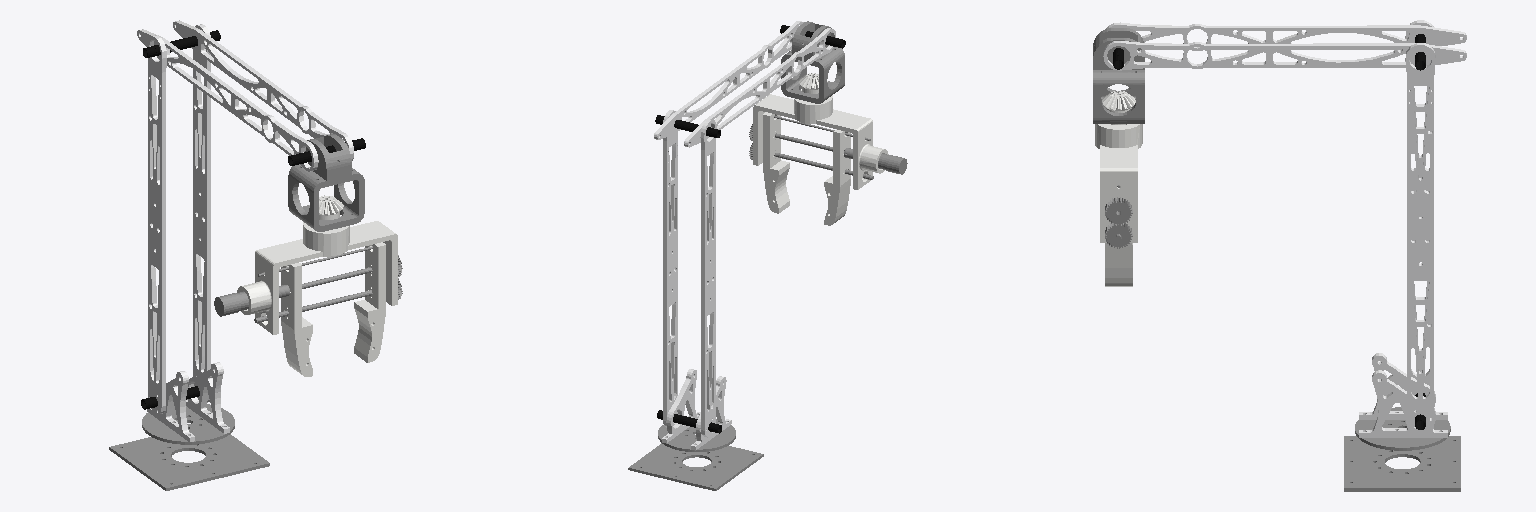
--- Facts derived from the render (not from the file) ---
3 views of the same robot in one strip: view 1: azimuth 30°, elevation 25°; view 2: azimuth 150°, elevation 25°; view 3: azimuth 270°, elevation 25° (orthographic).
Model manipulator_urdf with 24 links and 23 joints (7 revolute, 2 prismatic, 14 fixed), rooted at dummy_root, posed every joint at zero.
Links seen in each view (by area): view 1: link1_2, gripper, link1_1, base_link, link3, link2_2, link2_1, claw1, claw2, base_plate2, link1_1connector, link1_2_connector (+1 smaller); view 2: link1_2, link1_1, gripper, base_link, link2_1, link2_2, link3, claw1, claw2, link1_1connector, base_plate2, link1_2_connector; view 3: link1_1, link2_1, base_link, link2_2, gripper, link3, link1_1connector, base_plate2, link1_2, link1_2_connector, claw1, gear1 (+2 smaller).
Boxes of the visible links, <box> form: link1_2: <box>148,35,166,414</box>; gripper: <box>237,216,397,334</box>; link1_1: <box>193,24,210,402</box>; base_link: <box>109,434,269,490</box>; link3: <box>288,134,364,231</box>; link2_2: <box>137,29,318,171</box>; link2_1: <box>173,20,353,160</box>; claw1: <box>354,242,385,362</box>; claw2: <box>281,263,312,376</box>; base_plate2: <box>142,403,234,444</box>; link1_1connector: <box>186,362,229,433</box>; link1_2_connector: <box>147,371,194,441</box>; link1_2: <box>700,119,716,437</box>; link1_1: <box>663,110,677,427</box>; gripper: <box>753,90,888,189</box>; base_link: <box>628,443,763,490</box>; link2_1: <box>654,21,803,139</box>; link2_2: <box>684,28,835,147</box>; link3: <box>781,21,844,103</box>; claw1: <box>763,112,789,213</box>; claw2: <box>824,129,850,225</box>; link1_1connector: <box>662,369,700,443</box>; base_plate2: <box>658,419,735,451</box>; link1_2_connector: <box>691,376,731,450</box>; link1_1: <box>1405,43,1435,431</box>; link2_1: <box>1103,41,1466,70</box>; base_link: <box>1344,436,1460,491</box>; link2_2: <box>1106,22,1466,50</box>; gripper: <box>1095,124,1142,242</box>; link3: <box>1093,28,1144,123</box>; link1_1connector: <box>1359,370,1447,437</box>; base_plate2: <box>1355,407,1450,450</box>; link1_2: <box>1405,20,1433,395</box>; link1_2_connector: <box>1359,353,1447,419</box>; claw1: <box>1105,243,1132,286</box>; gear1: <box>1105,197,1132,224</box>.
Size in the robot's own frame: 0.313 by 0.545 by 0.6952 metres.
23 mesh visuals loaded from 23 distinct referenced files (23 binary STL).

robot.urdf — manipulator_urdf:
<?xml version="1.0" encoding="utf-8"?>
<!-- This URDF was automatically created by SolidWorks to URDF Exporter! Originally created by Stephen Brawner ([email redacted]) 
     Commit Version: 1.6.0-4-g7f85cfe  Build Version: 1.6.7995.38578
     For more information, please see http://wiki.ros.org/sw_urdf_exporter -->
<robot name="manipulator_urdf">

 <!-- Dummy root to base link -->
  <link name="dummy_root"/>
  <joint name="dummy_to_base" type="fixed">
    <parent link="dummy_root"/>
    <child link="base_link"/>
    <origin xyz="0 0 0" rpy="0 0 0"/>
  </joint>

  <link name="base_link">
    <inertial>
      <origin xyz="0.000195357232395832 0 0.0024999999999995" rpy="0 0 0" />
      <mass value="0.139707136084499" />
      <inertia ixx="0.000362153855961995" ixy="1.33420390025088E-19" ixz="-6.69804536161731E-18" iyy="0.000407966760717313" iyz="2.52141449948646E-18" izz="0.000769538503612289" />
    </inertial>
    <visual>
      <origin xyz="0 0 0" rpy="0 0 0" />
      <geometry>
        <mesh filename="package://manip_description/meshes/base_link.STL" />
      </geometry>
      <material name="">
        <color rgba="0.627450980392157 0.627450980392157 0.627450980392157 1" />
      </material>
    </visual>
    <collision>
      <origin xyz="0 0 0" rpy="0 0 0" />
      <geometry>
        <mesh filename="package://manip_description/meshes/base_link.STL" />
      </geometry>
    </collision>
  </link>
  <link name="base_plate2">
    <inertial>
      <origin xyz="0 -2.73796862626519E-06 -5.55111512312578E-16" rpy="0 0 0" />
      <mass value="0.0747522729666689" />
      <inertia ixx="9.24758403358081E-05" ixy="6.22795669521492E-21" ixz="-1.6101929216591E-18" iyy="9.37333665970082E-05" iyz="5.47807548040104E-19" izz="0.000185897739128789" />
    </inertial>
    <visual>
      <origin xyz="0 0 0" rpy="0 0 0" />
      <geometry>
        <mesh filename="package://manip_description/meshes/base_plate2.STL" />
      </geometry>
      <material name="">
        <color rgba="0.627450980392157 0.627450980392157 0.627450980392157 1" />
      </material>
    </visual>
    <collision>
      <origin xyz="0 0 0" rpy="0 0 0" />
      <geometry>
        <mesh filename="package://manip_description/meshes/base_plate2.STL" />
      </geometry>
    </collision>
  </link>
  <joint name="baseplate2_j_base_link" type="revolute">
    <origin xyz="-0.00205319181971286 0 0.0575000000000002" rpy="0 0 0" />
    <parent link="base_link" />
    <child link="base_plate2" />
    <axis xyz="0 0 1" />
    <limit lower="0" upper="6.28" effort="300" velocity="3" />
  </joint>
  <link name="link1_1connector">
    <inertial>
      <origin xyz="-1.78433523512211E-08 0.049721201098077 0.0362112919496935" rpy="0 0 0" />
      <mass value="0.0423060400773229" />
      <inertia ixx="7.17335275476126E-05" ixy="-1.51516466739471E-11" ixz="7.78822258422359E-12" iyy="3.8169797294216E-05" iyz="1.21210221498042E-05" izz="3.42782397609643E-05" />
    </inertial>
    <visual>
      <origin xyz="0 0 0" rpy="0 0 0" />
      <geometry>
        <mesh filename="package://manip_description/meshes/link1_1connector.STL" />
      </geometry>
      <material name="">
        <color rgba="0.96078431372549 0.96078431372549 0.964705882352941 1" />
      </material>
    </visual>
    <collision>
      <origin xyz="0 0 0" rpy="0 0 0" />
      <geometry>
        <mesh filename="package://manip_description/meshes/link1_1connector.STL" />
      </geometry>
    </collision>
  </link>
  <joint name="link1_1connector_j_base_plate_2" type="fixed">
    <origin xyz="0.0300000000000022 -0.055527801921881 0.00650000000000017" rpy="0 0 0" />
    <parent link="base_plate2" />
    <child link="link1_1connector" />
    <axis xyz="0 0 0" />
  </joint>
  <link name="shaft1">
    <inertial>
      <origin xyz="2.22044604925031E-16 -2.22044604925031E-16 -2.22044604925031E-16" rpy="0 0 0" />
      <mass value="0.00614181363776804" />
      <inertia ixx="3.48958785357564E-07" ixy="2.80204717663456E-20" ixz="-1.2457721375434E-19" iyy="8.42636468018142E-06" iyz="-5.1395488726198E-23" izz="8.42636468018142E-06" />
    </inertial>
    <visual>
      <origin xyz="0 0 0" rpy="0 0 0" />
      <geometry>
        <mesh filename="package://manip_description/meshes/shaft1.STL" />
      </geometry>
      <material name="">
        <color rgba="0.0980392156862745 0.0980392156862745 0.0980392156862745 1" />
      </material>
    </visual>
    <collision>
      <origin xyz="0 0 0" rpy="0 0 0" />
      <geometry>
        <mesh filename="package://manip_description/meshes/shaft1.STL" />
      </geometry>
    </collision>
  </link>
  <joint name="shaft1_j_link1_1connector" type="fixed">
    <origin xyz="-0.03 0.081587371771404 0.0289117875999407" rpy="0 0 0" />
    <parent link="link1_1connector" />
    <child link="shaft1" />
    <axis xyz="0 0 0" />
  </joint>
  <link name="link1_1">
    <inertial>
      <origin xyz="-4.64495775176488E-10 -0.000100326015627594 0.283839487614988" rpy="0 0 0" />
      <mass value="0.134763915806832" />
      <inertia ixx="0.00395011652504064" ixy="-3.21643583369989E-13" ixz="2.25726552672763E-12" iyy="0.00392825322370088" iyz="8.89426389737491E-08" izz="2.33007782067884E-05" />
    </inertial>
    <visual>
      <origin xyz="0 0 0" rpy="0 0 0" />
      <geometry>
        <mesh filename="package://manip_description/meshes/link1_1.STL" />
      </geometry>
      <material name="">
        <color rgba="0.96078431372549 0.96078431372549 0.964705882352941 1" />
      </material>
    </visual>
    <collision>
      <origin xyz="0 0 0" rpy="0 0 0" />
      <geometry>
        <mesh filename="package://manip_description/meshes/link1_1.STL" />
      </geometry>
    </collision>
  </link>
  <joint name="link1_1_j_shaft1" type="revolute">
    <origin xyz="0.0390000000000001 0 0" rpy="0 0 0" />
    <parent link="shaft1" />
    <child link="link1_1" />
    <axis xyz="1 0 0" />
    <limit lower="0" upper="1.34" effort="700" velocity="3" />
  </joint>
  <link name="shaft2">
    <inertial>
      <origin xyz="0 0 -4.44089209850063E-16" rpy="0 0 0" />
      <mass value="0.00614181363776804" />
      <inertia ixx="3.48958785357564E-07" ixy="2.80622183067328E-20" ixz="-1.43664514494482E-19" iyy="8.42636468018141E-06" iyz="1.06844162459726E-23" izz="8.42636468018141E-06" />
    </inertial>
    <visual>
      <origin xyz="0 0 0" rpy="0 0 0" />
      <geometry>
        <mesh filename="package://manip_description/meshes/shaft2.STL" />
      </geometry>
      <material name="">
        <color rgba="0.0980392156862745 0.0980392156862745 0.0980392156862745 1" />
      </material>
    </visual>
    <collision>
      <origin xyz="0 0 0" rpy="0 0 0" />
      <geometry>
        <mesh filename="package://manip_description/meshes/shaft2.STL" />
      </geometry>
    </collision>
  </link>
  <joint name="shaft2_j_link1_1" type="fixed">
    <origin xyz="-0.0360000000000091 0 0.58" rpy="0 0 0" />
    <parent link="link1_1" />
    <child link="shaft2" />
    <axis xyz="0 0 0" />
  </joint>
  <link name="link2_1">
    <inertial>
      <origin xyz="4.51383042054943E-09 -0.19237927841626 -0.000741998009010203" rpy="0 0 0" />
      <mass value="0.0786855946436255" />
      <inertia ixx="0.00191785198103841" ixy="4.36717235357529E-11" ixz="-7.63256976813492E-12" iyy="1.19650597389385E-05" iyz="-2.45427436092979E-06" izz="0.00190672624165483" />
    </inertial>
    <visual>
      <origin xyz="0 0 0" rpy="0 0 0" />
      <geometry>
        <mesh filename="package://manip_description/meshes/link2_1.STL" />
      </geometry>
      <material name="">
        <color rgba="0.96078431372549 0.96078431372549 0.964705882352941 1" />
      </material>
    </visual>
    <collision>
      <origin xyz="0 0 0" rpy="0 0 0" />
      <geometry>
        <mesh filename="package://manip_description/meshes/link2_1.STL" />
      </geometry>
    </collision>
  </link>
  <joint name="shaft2_j_link2_1" type="revolute">
    <origin xyz="0.028 0 0" rpy="0 0 0" />
    <parent link="shaft2" />
    <child link="link2_1" />
    <axis xyz="1 0 0" />
    <limit lower="-1.047" upper="0.68" effort="500" velocity="3" />
  </joint>
  <link name="shaft3">
    <inertial>
      <origin xyz="2.22044604925031E-16 1.11022302462516E-16 -4.44089209850063E-16" rpy="0 0 0" />
      <mass value="0.00614181363776805" />
      <inertia ixx="3.48958785357564E-07" ixy="2.77982763609887E-20" ixz="-1.43792784651756E-19" iyy="8.42636468018144E-06" iyz="1.96800054119603E-24" izz="8.42636468018144E-06" />
    </inertial>
    <visual>
      <origin xyz="0 0 0" rpy="0 0 0" />
      <geometry>
        <mesh filename="package://manip_description/meshes/shaft3.STL" />
      </geometry>
      <material name="">
        <color rgba="0.0980392156862745 0.0980392156862745 0.0980392156862745 1" />
      </material>
    </visual>
    <collision>
      <origin xyz="0 0 0" rpy="0 0 0" />
      <geometry>
        <mesh filename="package://manip_description/meshes/shaft3.STL" />
      </geometry>
    </collision>
  </link>
  <joint name="saft3_j_link2_1" type="fixed">
    <origin xyz="-0.0310000000000019 -0.44 0" rpy="0 0 0" />
    <parent link="link2_1" />
    <child link="shaft3" />
    <axis xyz="0 0 0" />
  </joint>
  <link name="link3">
    <inertial>
      <origin xyz="-0.000156441051319289 5.65094705323177E-05 -0.0450975512468108" rpy="0 0 0" />
      <mass value="0.224806547118785" />
      <inertia ixx="0.000456163453198375" ixy="6.46252776641713E-10" ixz="-5.87763952919612E-07" iyy="0.000483845569489242" iyz="6.28694008517293E-08" izz="0.000289692982245641" />
    </inertial>
    <visual>
      <origin xyz="0 0 0" rpy="0 0 0" />
      <geometry>
        <mesh filename="package://manip_description/meshes/link3.STL" />
      </geometry>
      <material name="">
        <color rgba="0.627450980392157 0.627450980392157 0.627450980392157 1" />
      </material>
    </visual>
    <collision>
      <origin xyz="0 0 0" rpy="0 0 0" />
      <geometry>
        <mesh filename="package://manip_description/meshes/link3.STL" />
      </geometry>
    </collision>
  </link>
  <joint name="link3_j_shaft3" type="revolute">
    <origin xyz="0 0 0" rpy="0 0 0" />
    <parent link="shaft3" />
    <child link="link3" />
    <axis xyz="1 0 0" />
    <limit lower="-3.14" upper="0.11" effort="10" velocity="3" />
  </joint>
  <link name="bevel1">
    <inertial>
      <origin xyz="1.57568920888806E-06 8.72524664519148E-07 0.00618798510990271" rpy="0 0 0" />
      <mass value="0.0461593276316264" />
      <inertia ixx="1.04939527608266E-05" ixy="-9.91261610146335E-10" ixz="-6.27975101843376E-10" iyy="1.04918542659061E-05" iyz="-3.50073583797341E-10" izz="1.00345461695118E-05" />
    </inertial>
    <visual>
      <origin xyz="0 0 0" rpy="0 0 0" />
      <geometry>
        <mesh filename="package://manip_description/meshes/bevel1.STL" />
      </geometry>
      <material name="">
        <color rgba="0.964705882352941 0.964705882352941 0.952941176470588 1" />
      </material>
    </visual>
    <collision>
      <origin xyz="0 0 0" rpy="0 0 0" />
      <geometry>
        <mesh filename="package://manip_description/meshes/bevel1.STL" />
      </geometry>
    </collision>
  </link>
  <joint name="bevel1_j_link3" type="revolute">
    <origin xyz="-0.000499499999997655 0 -0.104999996518335" rpy="0 0 0" />
    <parent link="link3" />
    <child link="bevel1" />
    <axis xyz="0 0 1" />
    <limit lower="0" upper="6.283" effort="0.5" velocity="3" />
  </joint>
  <link name="gripper">
    <inertial>
      <origin xyz="-0.00947390080722954 7.99360577730113E-15 -0.032696228721947" rpy="0 0 0" />
      <mass value="0.341464156501705" />
      <inertia ixx="0.000604244616763682" ixy="5.09909105392224E-18" ixz="-0.000143274519057227" iyy="0.00239586527325235" iyz="-2.1241809513346E-18" izz="0.00198563943087105" />
    </inertial>
    <visual>
      <origin xyz="0 0 0" rpy="0 0 0" />
      <geometry>
        <mesh filename="package://manip_description/meshes/gripper.STL" />
      </geometry>
      <material name="">
        <color rgba="0.964705882352941 0.964705882352941 0.952941176470588 1" />
      </material>
    </visual>
    <collision>
      <origin xyz="0 0 0" rpy="0 0 0" />
      <geometry>
        <mesh filename="package://manip_description/meshes/gripper.STL" />
      </geometry>
    </collision>
  </link>
  <joint name="gripper_j_bevel1" type="fixed">
    <origin xyz="0 0 -0.0299324571895392" rpy="0 0 0" />
    <parent link="bevel1" />
    <child link="gripper" />
    <axis xyz="0 0 0" />
    <limit lower="0" upper="6.28" effort="0.5" velocity="3" />
  </joint>
  <link name="ss_rod">
    <inertial>
      <origin xyz="0.0975000000000004 7.66053886991358E-15 0" rpy="0 0 0" />
      <mass value="0.00282743338823081" />
      <inertia ixx="5.65486677646163E-09" ixy="4.44618822704266E-20" ixz="-1.86006780902391E-19" iyy="1.1931062039987E-05" iyz="6.84209305664013E-34" izz="1.1931062039987E-05" />
    </inertial>
    <visual>
      <origin xyz="0 0 0" rpy="0 0 0" />
      <geometry>
        <mesh filename="package://manip_description/meshes/ss_rod.STL" />
      </geometry>
      <material name="">
        <color rgba="0.627450980392157 0.627450980392157 0.627450980392157 1" />
      </material>
    </visual>
    <collision>
      <origin xyz="0 0 0" rpy="0 0 0" />
      <geometry>
        <mesh filename="package://manip_description/meshes/ss_rod.STL" />
      </geometry>
    </collision>
  </link>
  <joint name="ss_rod_j_gripper" type="fixed">
    <origin xyz="-0.102499999999999 0 -0.0410675393287978" rpy="0 0 0" />
    <parent link="gripper" />
    <child link="ss_rod" />
    <axis xyz="0 0 0" />
  </joint>
  <link name="threded_rod_up">
    <inertial>
      <origin xyz="2.22044604925031E-16 7.82707232360735E-15 -1.77635683940025E-15" rpy="0 0 0" />
      <mass value="0.0121489228511336" />
      <inertia ixx="9.39627397423046E-08" ixy="2.1935928770699E-19" ixz="-1.00881315866112E-18" iyy="6.33226212195255E-05" iyz="3.53881103869049E-33" izz="6.33226212195255E-05" />
    </inertial>
    <visual>
      <origin xyz="0 0 0" rpy="0 0 0" />
      <geometry>
        <mesh filename="package://manip_description/meshes/threded_rod_up.STL" />
      </geometry>
      <material name="">
        <color rgba="0.627450980392157 0.627450980392157 0.627450980392157 1" />
      </material>
    </visual>
    <collision>
      <origin xyz="0 0 0" rpy="0 0 0" />
      <geometry>
        <mesh filename="package://manip_description/meshes/threded_rod_up.STL" />
      </geometry>
    </collision>
  </link>
  <joint name="threded_rod_up_j_gripper" type="fixed">
    <origin xyz="-0.017499999999999 0 -0.0770675393287958" rpy="0 0 0" />
    <parent link="gripper" />
    <child link="threded_rod_up" />
    <axis xyz="0 0 0" />
  </joint>
  <link name="claw2">
    <inertial>
      <origin xyz="-0.00296412475331143 -3.50262785014932E-06 -0.0565127254779711" rpy="0 0 0" />
      <mass value="0.134410672799194" />
      <inertia ixx="0.000371952908819462" ixy="5.50044665304092E-09" ixz="3.30601032585245E-05" iyy="0.000362575120952868" iyz="-2.02999010553453E-09" izz="2.71292076611256E-05" />
    </inertial>
    <visual>
      <origin xyz="0 0 0" rpy="0 0 0" />
      <geometry>
        <mesh filename="package://manip_description/meshes/claw2.STL" />
      </geometry>
      <material name="">
        <color rgba="0.964705882352941 0.964705882352941 0.952941176470588 1" />
      </material>
    </visual>
    <collision>
      <origin xyz="0 0 0" rpy="0 0 0" />
      <geometry>
        <mesh filename="package://manip_description/meshes/claw2.STL" />
      </geometry>
    </collision>
  </link>
  <joint name="claw2_j_threded_rod_up" type="prismatic">
    <origin xyz="-0.0337770678111837 0 0" rpy="0 0 0" />
    <parent link="threded_rod_up" />
    <child link="claw2" />
    <axis xyz="1 0 0" />
    <limit lower="0.00" upper="0.04" effort="3" velocity="3" />
  </joint>
  <link name="claw1">
    <inertial>
      <origin xyz="-0.00575880743550372 3.50262773646248E-06 -0.0565127254779658" rpy="0 0 0" />
      <mass value="0.134410672799193" />
      <inertia ixx="0.00037195290881946" ixy="5.50044657542522E-09" ixz="-3.30601032585136E-05" iyy="0.000362575120952863" iyz="2.02998931355451E-09" izz="2.71292076611234E-05" />
    </inertial>
    <visual>
      <origin xyz="0 0 0" rpy="0 0 0" />
      <geometry>
        <mesh filename="package://manip_description/meshes/claw1.STL" />
      </geometry>
      <material name="">
        <color rgba="0.964705882352941 0.964705882352941 0.952941176470588 1" />
      </material>
    </visual>
    <collision>
      <origin xyz="0 0 0" rpy="0 0 0" />
      <geometry>
        <mesh filename="package://manip_description/meshes/claw1.STL" />
      </geometry>
    </collision>
  </link>
  <joint name="claw1_j_threded_rod_up" type="prismatic">
    <origin xyz="0.1025 0 -0.000298999999999827" rpy="0 0 0" />
    <parent link="threded_rod_up" />
    <child link="claw1" />
    <axis xyz="1 0 0" />
    <limit lower="-0.045" upper="0.0" effort="3" velocity="3" />
    <mimic joint="claw2_j_threded_rod_up" multiplier="-1.0" offset="0.0"/>
  </joint>
  <link name="motor">
    <inertial>
      <origin xyz="-0.043637951435167 7.56764734016757E-06 1.05474587688281E-05" rpy="0 0 0" />
      <mass value="0.0558864492200027" />
      <inertia ixx="5.79372255970093E-06" ixy="1.39156228330173E-08" ixz="1.93949918217533E-08" iyy="3.78532048080649E-05" iyz="5.61857630483807E-09" izz="3.7857004489853E-05" />
    </inertial>
    <visual>
      <origin xyz="0 0 0" rpy="0 0 0" />
      <geometry>
        <mesh filename="package://manip_description/meshes/motor.STL" />
      </geometry>
      <material name="">
        <color rgba="0.627450980392157 0.627450980392157 0.627450980392157 1" />
      </material>
    </visual>
    <collision>
      <origin xyz="0 0 0" rpy="0 0 0" />
      <geometry>
        <mesh filename="package://manip_description/meshes/motor.STL" />
      </geometry>
    </collision>
  </link>
  <joint name="motor_j_gripper" type="fixed">
    <origin xyz="-0.0999999999999981 0 -0.0770675393287972" rpy="0 0 0" />
    <parent link="gripper" />
    <child link="motor" />
    <axis xyz="0 0 0" />
  </joint>
  <link name="shaft_coupler">
    <inertial>
      <origin xyz="3.43275563530199E-09 2.51912170445845E-06 -1.8443343692276E-06" rpy="0 0 0" />
      <mass value="0.00642699718557648" />
      <inertia ixx="2.90757438236863E-07" ixy="-7.46111633042868E-14" ixz="-1.46031394690198E-13" iyy="6.22303514989085E-07" iyz="-1.47141090258298E-10" izz="6.22210285079933E-07" />
    </inertial>
    <visual>
      <origin xyz="0 0 0" rpy="0 0 0" />
      <geometry>
        <mesh filename="package://manip_description/meshes/shaft_coupler.STL" />
      </geometry>
      <material name="">
        <color rgba="0.627450980392157 0.627450980392157 0.627450980392157 1" />
      </material>
    </visual>
    <collision>
      <origin xyz="0 0 0" rpy="0 0 0" />
      <geometry>
        <mesh filename="package://manip_description/meshes/shaft_coupler.STL" />
      </geometry>
    </collision>
  </link>
  <joint name="shaft_coupler_j_gripper" type="fixed">
    <origin xyz="-0.0825 -0.00017997 -0.076937" rpy="0 0 0" />
    <parent link="gripper" />
    <child link="shaft_coupler" />
    <axis xyz="0 0 0" />
  </joint>
  <link name="gear1">
    <inertial>
      <origin xyz="0.0107326910509893 -4.05231403988182E-15 -3.99680288865056E-15" rpy="0 0 0" />
      <mass value="0.0170959118700181" />
      <inertia ixx="2.66648678784873E-06" ixy="3.60545421608951E-19" ixz="3.76705672624576E-20" iyy="2.15564618007614E-06" iyz="-1.24153481093661E-15" izz="2.15564617597141E-06" />
    </inertial>
    <visual>
      <origin xyz="0 0 0" rpy="0 0 0" />
      <geometry>
        <mesh filename="package://manip_description/meshes/gear1.STL" />
      </geometry>
      <material name="">
        <color rgba="0.627450980392157 0.627450980392157 0.627450980392157 1" />
      </material>
    </visual>
    <collision>
      <origin xyz="0 0 0" rpy="0 0 0" />
      <geometry>
        <mesh filename="package://manip_description/meshes/gear1.STL" />
      </geometry>
    </collision>
  </link>
  <joint name="gear1_j_gripper" type="fixed">
    <origin xyz="0.1 0 -0.077068" rpy="0 0 0" />
    <parent link="gripper" />
    <child link="gear1" />
    <axis xyz="0 0 0" />
  </joint>
  <link name="thrededrod_down">
    <inertial>
      <origin xyz="-2.22044604925031E-16 8.27116153345742E-15 -1.33226762955019E-15" rpy="0 0 0" />
      <mass value="0.0121489228511336" />
      <inertia ixx="9.39627397423046E-08" ixy="2.1935928770699E-19" ixz="-1.00881315866112E-18" iyy="6.33226212195255E-05" iyz="3.53881103869049E-33" izz="6.33226212195255E-05" />
    </inertial>
    <visual>
      <origin xyz="0 0 0" rpy="0 0 0" />
      <geometry>
        <mesh filename="package://manip_description/meshes/thrededrod_down.STL" />
      </geometry>
      <material name="">
        <color rgba="0.627450980392157 0.627450980392157 0.627450980392157 1" />
      </material>
    </visual>
    <collision>
      <origin xyz="0 0 0" rpy="0 0 0" />
      <geometry>
        <mesh filename="package://manip_description/meshes/thrededrod_down.STL" />
      </geometry>
    </collision>
  </link>
  <joint name="threded_rod_down_j_gripper" type="fixed">
    <origin xyz="0.0025 0 -0.11487" rpy="0 0 0" />
    <parent link="gripper" />
    <child link="thrededrod_down" />
    <axis xyz="0 0 0" />
  </joint>
  <link name="gear2">
    <inertial>
      <origin xyz="0.0107326910509891 -1.37667655053519E-14 0" rpy="0 0 0" />
      <mass value="0.0170959118700137" />
      <inertia ixx="2.66648678784784E-06" ixy="4.05407438152039E-19" ixz="1.20367294634015E-20" iyy="2.15564617709311E-06" iyz="2.21072179691744E-15" izz="2.15564617895344E-06" />
    </inertial>
    <visual>
      <origin xyz="0 0 0" rpy="0 0 0" />
      <geometry>
        <mesh filename="package://manip_description/meshes/gear2.STL" />
      </geometry>
      <material name="">
        <color rgba="0.627450980392157 0.627450980392157 0.627450980392157 1" />
      </material>
    </visual>
    <collision>
      <origin xyz="0 0 0" rpy="0 0 0" />
      <geometry>
        <mesh filename="package://manip_description/meshes/gear2.STL" />
      </geometry>
    </collision>
  </link>
  <joint name="gear2_j_gripper" type="fixed">
    <origin xyz="0.1 0 -0.11487" rpy="0 0 0" />
    <parent link="gripper" />
    <child link="gear2" />
    <axis xyz="0 0 0" />
  </joint>
  <link name="link2_2">
    <inertial>
      <origin xyz="-4.51383175281705E-09 -0.192379652731722 0.000637447708020655" rpy="0 0 0" />
      <mass value="0.0786855940633513" />
      <inertia ixx="0.00191785196637821" ixy="-4.36675770328836E-11" ixz="-7.66566324060629E-12" iyy="1.19629535379423E-05" iyz="1.42455549814404E-06" izz="0.00190672833319192" />
    </inertial>
    <visual>
      <origin xyz="0 0 0" rpy="0 0 0" />
      <geometry>
        <mesh filename="package://manip_description/meshes/link2_2.STL" />
      </geometry>
      <material name="">
        <color rgba="0.96078431372549 0.96078431372549 0.964705882352941 1" />
      </material>
    </visual>
    <collision>
      <origin xyz="0 0 0" rpy="0 0 0" />
      <geometry>
        <mesh filename="package://manip_description/meshes/link2_2.STL" />
      </geometry>
    </collision>
  </link>
  <joint name="shaft2_j_link2_2" type="revolute">
    <origin xyz="-0.0340000000000003 0 0" rpy="0 0 0" />
    <parent link="shaft2" />
    <child link="link2_2" />
    <axis xyz="1 0 0" />
    <limit lower="-1.047" upper="0.68" effort="500" velocity="3" />
    <mimic joint="shaft2_j_link2_1" multiplier="1.0" offset="0.0"/>
  </joint>
  <link name="link1_2">
    <inertial>
      <origin xyz="-4.64495997221093E-10 -0.000100326015642249 0.283839487614995" rpy="0 0 0" />
      <mass value="0.13476391580683" />
      <inertia ixx="0.00395011652504059" ixy="-3.21643551710228E-13" ixz="2.25726564739554E-12" iyy="0.00392825322370083" iyz="8.89426389718591E-08" izz="2.33007782067883E-05" />
    </inertial>
    <visual>
      <origin xyz="0 0 0" rpy="0 0 0" />
      <geometry>
        <mesh filename="package://manip_description/meshes/link1_2.STL" />
      </geometry>
      <material name="">
        <color rgba="0.96078431372549 0.96078431372549 0.964705882352941 1" />
      </material>
    </visual>
    <collision>
      <origin xyz="0 0 0" rpy="0 0 0" />
      <geometry>
        <mesh filename="package://manip_description/meshes/link1_2.STL" />
      </geometry>
    </collision>
  </link>
  <joint name="link1_2_j_shaft1" type="revolute">
    <origin xyz="-0.0389999999999997 0 0" rpy="0 0 0" />
    <parent link="shaft1" />
    <child link="link1_2" />
    <axis xyz="1 0 0" />
    <limit lower="0" upper="1.57" effort="700" velocity="3" />
    <mimic joint="link1_1_j_shaft1" multiplier="1.0" offset="0.0"/>
  </joint>
  <link name="link1_2_connector">
    <inertial>
      <origin xyz="-1.78433527953104E-08 0.0497212010980761 0.0362112919496934" rpy="0 0 0" />
      <mass value="0.0423060400773221" />
      <inertia ixx="7.17335275476114E-05" ixy="-1.51516465982144E-11" ixz="7.78822265030405E-12" iyy="3.81697972942157E-05" iyz="1.21210221498042E-05" izz="3.42782397609634E-05" />
    </inertial>
    <visual>
      <origin xyz="0 0 0" rpy="0 0 0" />
      <geometry>
        <mesh filename="package://manip_description/meshes/link1_2_connector.STL" />
      </geometry>
      <material name="">
        <color rgba="0.96078431372549 0.96078431372549 0.964705882352941 1" />
      </material>
    </visual>
    <collision>
      <origin xyz="0 0 0" rpy="0 0 0" />
      <geometry>
        <mesh filename="package://manip_description/meshes/link1_2_connector.STL" />
      </geometry>
    </collision>
  </link>
  <joint name="link1_2connector_j_base_plate2" type="fixed">
    <origin xyz="-0.0299999999999969 -0.0555278019218802 0.0064999999999994" rpy="0 0 0" />
    <parent link="base_plate2" />
    <child link="link1_2_connector" />
    <axis xyz="0 0 0" />
  </joint>

</robot>
